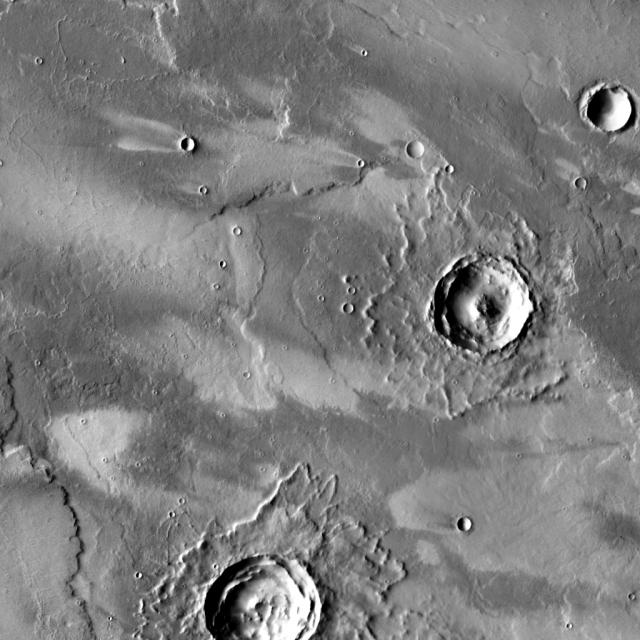crater: (439, 253, 539, 352), (214, 554, 328, 640), (595, 84, 640, 129), (414, 142, 433, 160), (465, 517, 480, 531), (189, 138, 203, 152), (351, 304, 362, 315), (584, 176, 595, 187), (522, 239, 531, 249), (242, 226, 249, 234), (201, 180, 208, 188), (453, 165, 461, 172), (349, 282, 356, 288), (359, 154, 366, 160), (137, 564, 143, 570), (604, 186, 610, 192), (221, 254, 227, 260)
